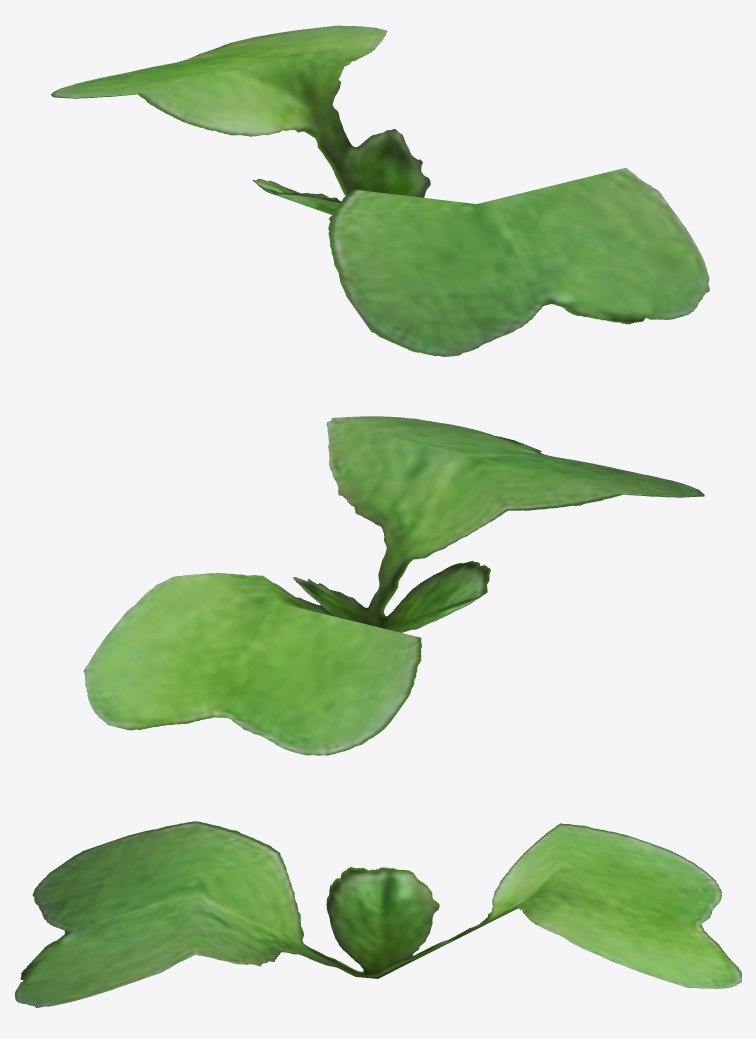
The model's file is Sprout.FBX.
The picture shows the model from 3 angles, top to bottom: view 1: azimuth 30°, elevation 25°; view 2: azimuth 150°, elevation 25°; view 3: azimuth 270°, elevation 25°; orthographic projection. The views are drawn at different scales.
Parts seen in each view (by area): view 1: Sprout; view 2: Sprout; view 3: Sprout.
Boxes of the visible parts, <box> form: Sprout: <box>51,25,709,356</box>; Sprout: <box>83,416,704,755</box>; Sprout: <box>15,821,741,1007</box>.
Size of the model in its own units: 18.62 by 5.3 by 38.17.
